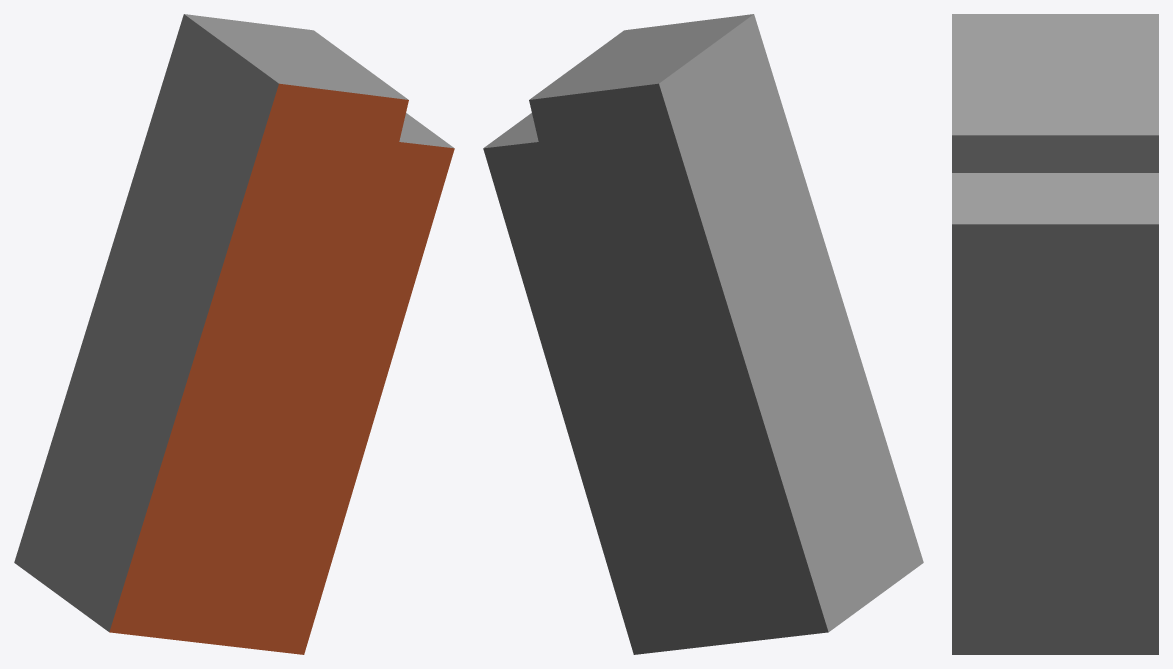
File: construction_1677_assumed_A_Casa_h6m.obj
3 views of the same model, side by side, from view 1: azimuth 30°, elevation 25°; view 2: azimuth 150°, elevation 25°; view 3: azimuth 270°, elevation 25° (orthographic). The views are drawn at different scales.
Parts seen in each view (by area): view 1: construction_1677_assumed_A_Casa; view 2: construction_1677_assumed_A_Casa; view 3: construction_1677_assumed_A_Casa.
Part boxes in pixels (x1,y1,x2,y2): construction_1677_assumed_A_Casa: (14,14,454,654); construction_1677_assumed_A_Casa: (483,14,923,654); construction_1677_assumed_A_Casa: (952,14,1158,654).
Size of the model in its own units: 12.57 by 20.08 by 6.
